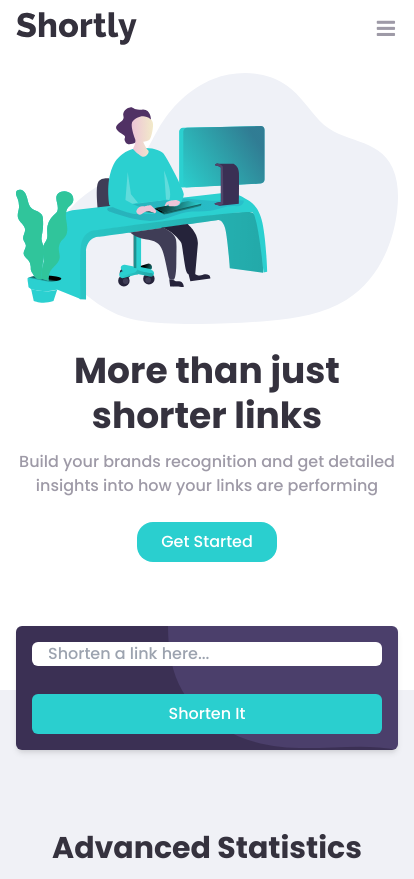
Test: Toggle Button › On Mobile, clicking toggle controls menu accordingly
Click the button with id "navbarToggle": click(386, 29) [370,13,402,45]
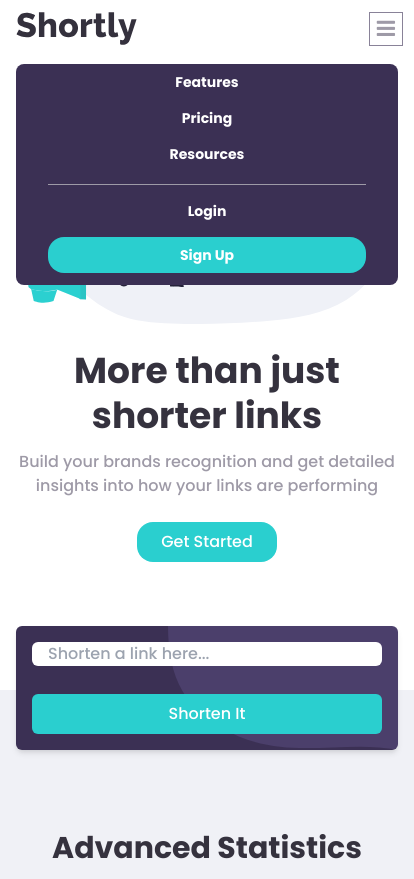
Check: the element with id "navbarMenu" is shown, box [16,64,398,285]
Click the button with id "navbarToggle": click(386, 29) [370,13,402,45]
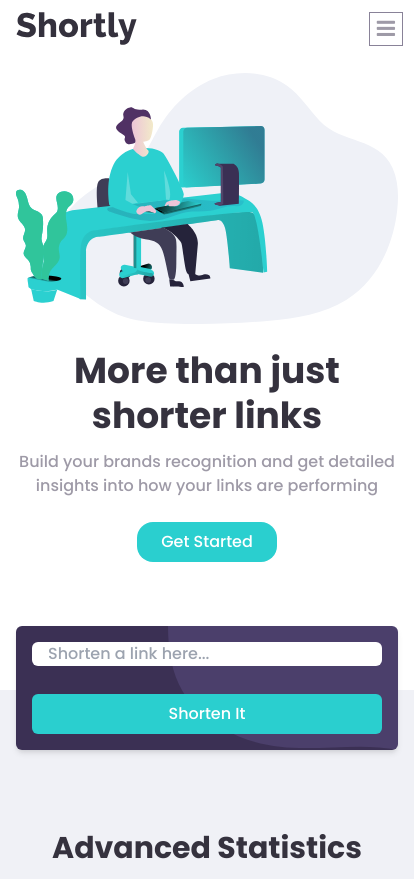
Check: the element with id "navbarMenu" is gone
